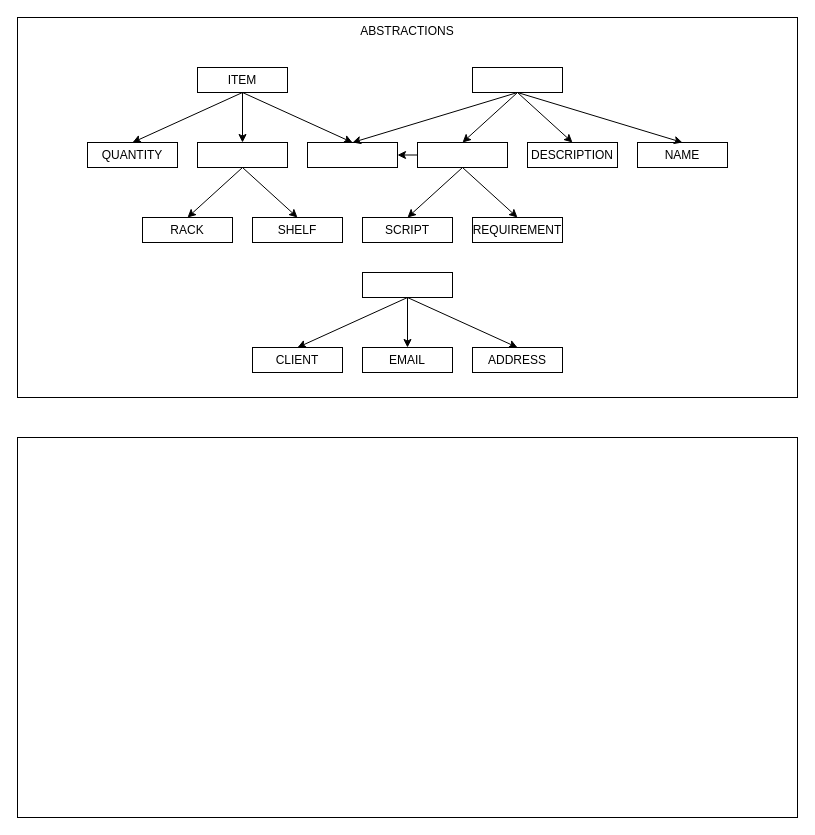
This 815x835 diagram has some shape labels left out. The centre of each missing label's shape, as x and y in pixels:
"COMMAND" belongs at point (517, 79).
"ID" belongs at point (352, 155).
"OPERATIONS" belongs at point (407, 627).
"POSITION" belongs at point (242, 155).
"USER" belongs at point (407, 285).
"VARIANT" belongs at point (462, 155).
